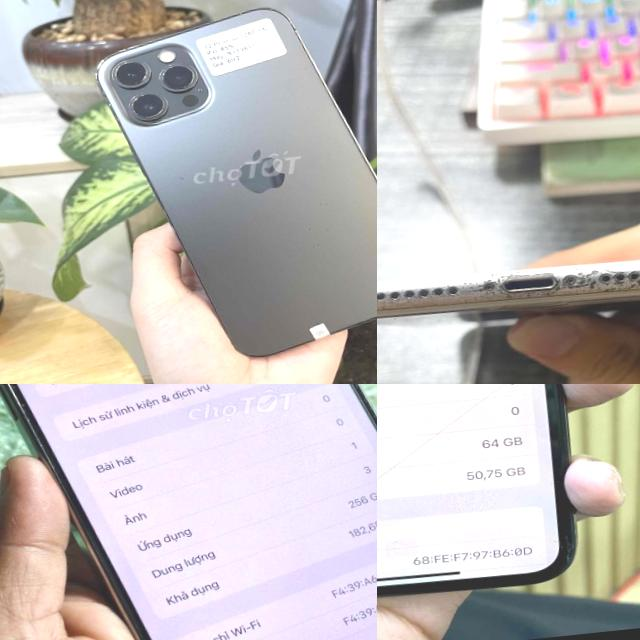physical_damage: (377, 384, 594, 615)
scratch: (377, 267, 503, 319), (500, 260, 586, 302), (584, 252, 640, 296)
